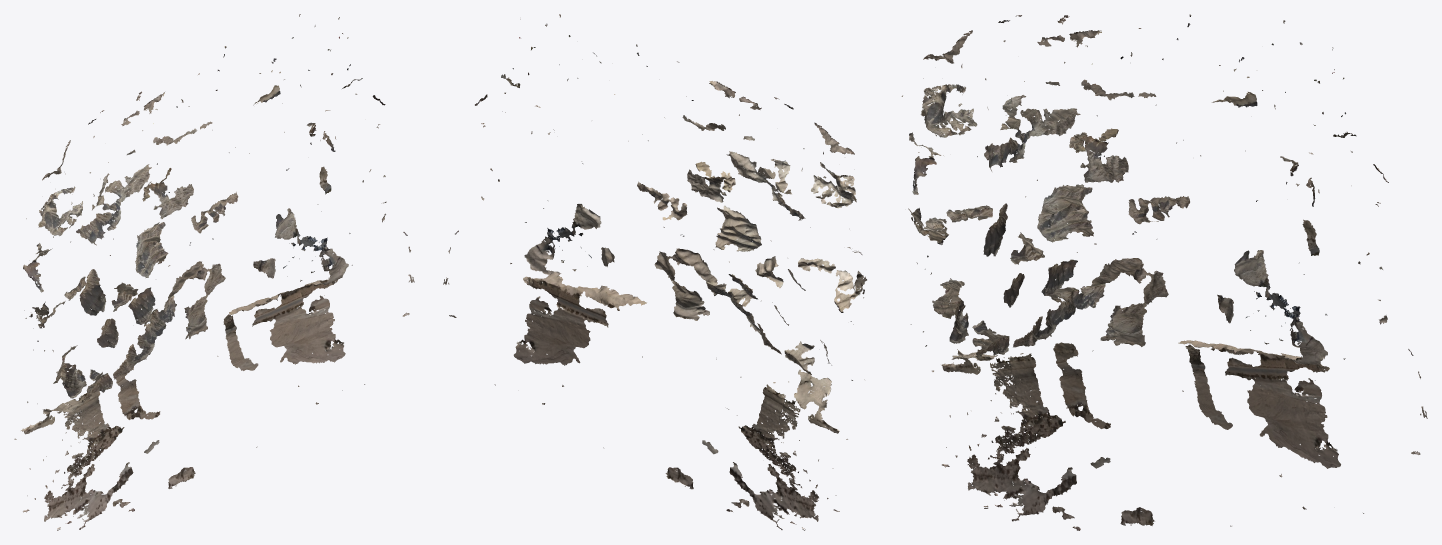
The picture shows the model from 3 angles, left to right: view 1: azimuth 30°, elevation 25°; view 2: azimuth 150°, elevation 25°; view 3: azimuth 330°, elevation 25°; orthographic projection. The views are drawn at different scales.
Bounding box in the file's own units: 670 × 723 × 69.73.
Materials: 2 (2 with a texture image).
